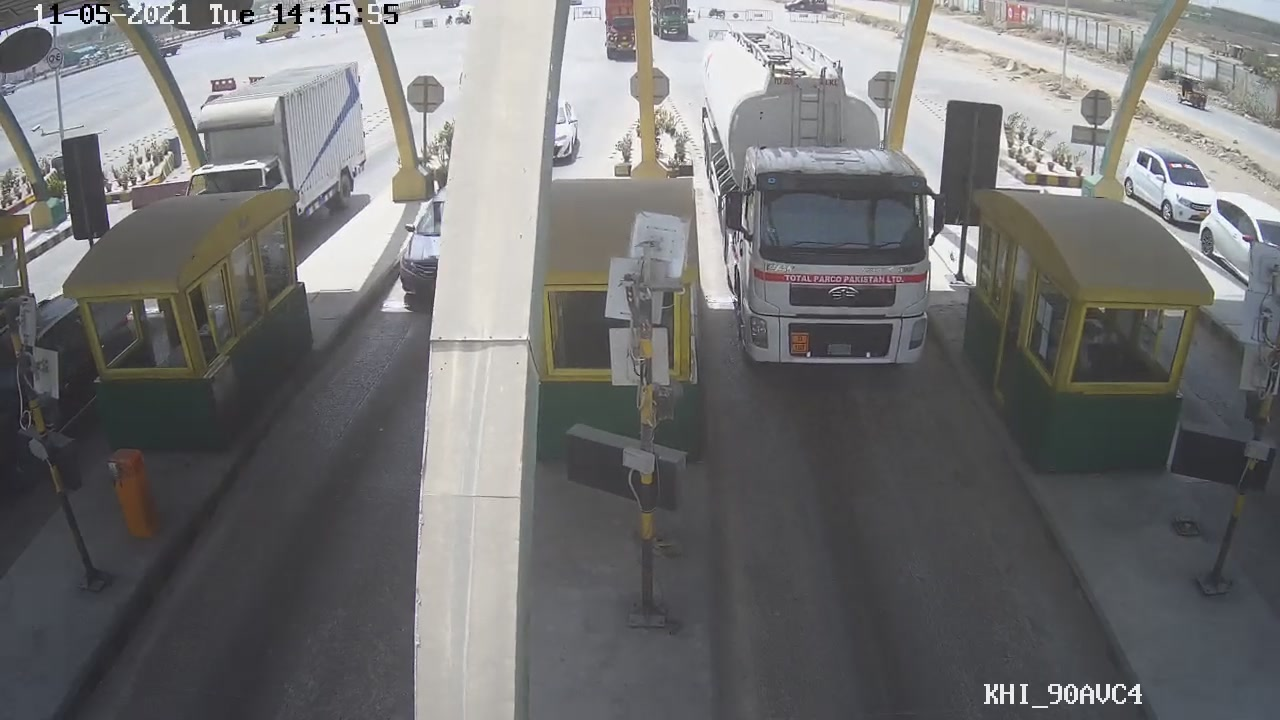F6: (700, 31, 950, 373)
